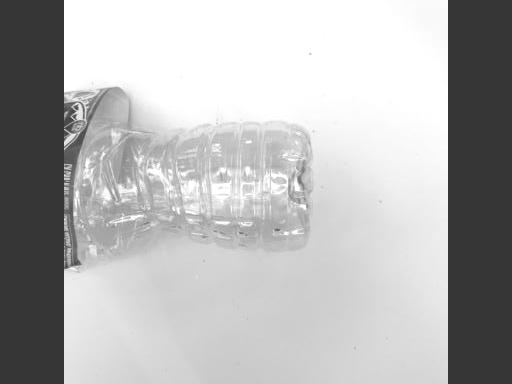bottle: (64, 86, 318, 296)
